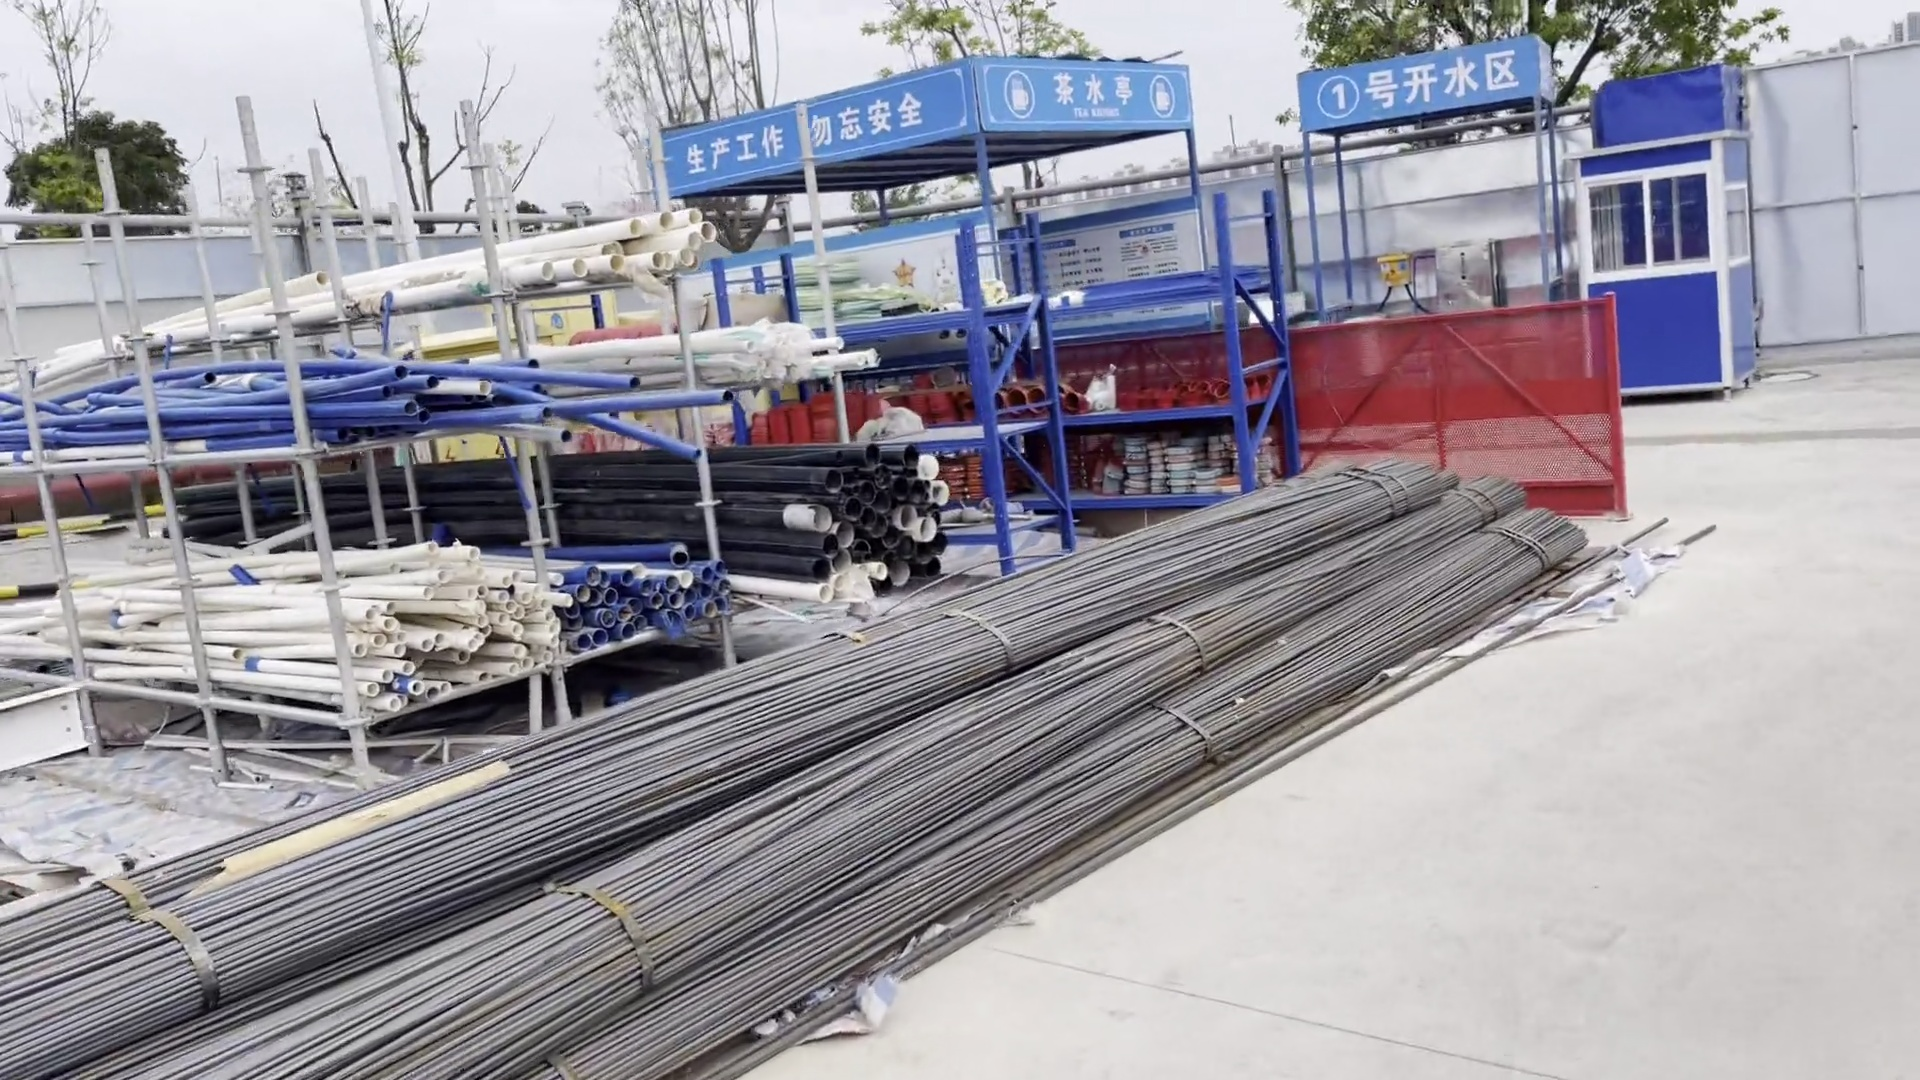ebox: (1371, 247, 1415, 291)
fence: (1292, 295, 1642, 531)
rebar: (938, 458, 1613, 965), (413, 609, 940, 1080), (3, 724, 496, 1080)
slogan: (622, 42, 1200, 223), (1279, 28, 1564, 160), (996, 193, 1215, 301), (825, 218, 1015, 303)
